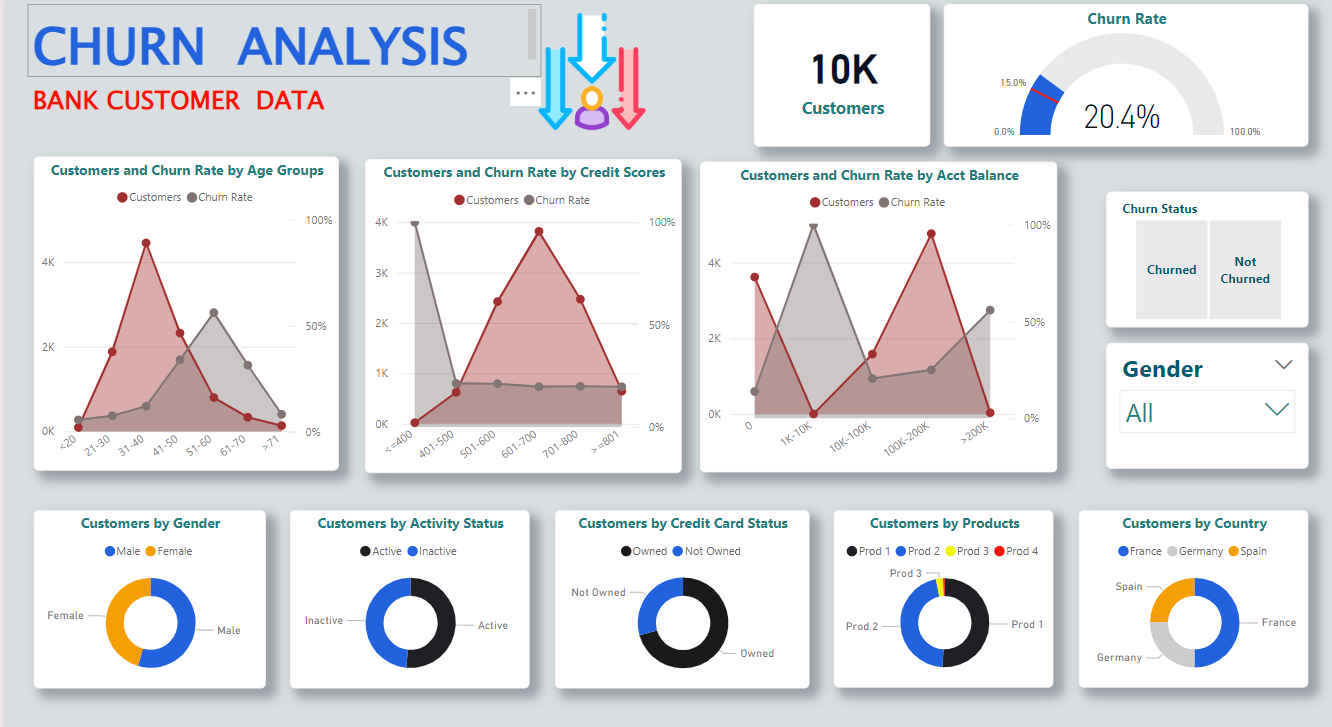

This screenshot's page, from the dashboard's own definition file:
{"tool":"powerbi","page":{"name":"Page 1","canvas":[1280,720],"ordinal":0},"visuals":[{"type":"card","fields":{"Values":["Customer Data.Customers"]},"box":[722.7,9.7,170.1,137.5],"z":0},{"type":"donutChart","fields":{"Category":["Customer Data.Gender"],"Y":["Customer Data.Customers"]},"box":[27.4,497.9,223.6,171.7],"z":1000},{"type":"donutChart","fields":{"Y":["Customer Data.Customers"],"Category":["Customer Data.Activity Status"]},"box":[275.3,497.9,230.8,171.7],"z":2000},{"type":"donutChart","fields":{"Y":["Customer Data.Customers"],"Category":["Customer Data.Credit Card Status"]},"box":[530.3,497.9,245.3,171.7],"z":3000},{"type":"donutChart","fields":{"Y":["Customer Data.Customers"],"Category":["Customer Data.Products"]},"box":[799.8,498.1,212.3,171.3],"z":4000},{"type":"areaChart","fields":{"Category":["Age Groups.Age Groups"],"Y":["Customer Data.Customers"],"Y2":["Customer Data.Churn Rate"]},"box":[27.4,157.3,294.3,303],"z":5000},{"type":"areaChart","fields":{"Category":["Credit Score Groups.Credit Scores"],"Y":["Customer Data.Customers"],"Y2":["Customer Data.Churn Rate"]},"box":[347.7,158.7,305.9,303],"z":6000},{"type":"areaChart","fields":{"Category":["Acct Balance Groups.Acct Balance"],"Y":["Customer Data.Customers"],"Y2":["Customer Data.Churn Rate"]},"box":[670.9,161.6,344.8,300.1],"z":7000},{"type":"slicer","fields":{"Values":["Customer Data.Churn Status"]},"box":[1062.9,190.6,195.4,131.5],"z":8000},{"type":"gauge","title":"Churn Rate","fields":{"Y":["Customer Data.Churn Rate"],"MinValue":["Min(Customer Data.Min Churn Rate)"],"MaxValue":["Max(Customer Data.Max Churn Rate)"],"TargetValue":["Max(Customer Data.Target Churn Rate)"]},"box":[906,9.7,352.3,137.5],"z":9000},{"type":"textbox","box":[21.7,9.7,495.8,70],"z":10000},{"type":"textbox","box":[21.6,79.4,360.7,51.9],"z":11000},{"type":"donutChart","fields":{"Y":["Customer Data.Customers"],"Category":["Customer Data.Country"]},"box":[1036.3,498.1,222,171.3],"z":13000},{"type":"slicer","fields":{"Values":["Customer Data.Gender"]},"box":[1062.9,336.6,195.4,121.9],"z":14000},{"type":"image","box":[479,0,175,150],"z":14001}]}

Visuals, with their boxes in screenshot pixels (x1, y1, x2, y2):
card - Customer Data.Customers: [left=751, top=3, right=927, bottom=145]
donutChart - Customer Data.Gender x Customer Data.Customers: [left=32, top=508, right=263, bottom=686]
donutChart - Customer Data.Customers x Customer Data.Activity Status: [left=288, top=508, right=527, bottom=686]
donutChart - Customer Data.Customers x Customer Data.Credit Card Status: [left=552, top=508, right=806, bottom=686]
donutChart - Customer Data.Customers x Customer Data.Products: [left=831, top=508, right=1050, bottom=685]
areaChart - Age Groups.Age Groups x Customer Data.Customers: [left=32, top=156, right=336, bottom=469]
areaChart - Credit Score Groups.Credit Scores x Customer Data.Customers: [left=363, top=157, right=680, bottom=471]
areaChart - Acct Balance Groups.Acct Balance x Customer Data.Customers: [left=697, top=160, right=1054, bottom=471]
slicer - Customer Data.Churn Status: [left=1103, top=190, right=1305, bottom=326]
"Churn Rate" gauge: [left=941, top=3, right=1305, bottom=145]
textbox: [left=26, top=3, right=539, bottom=76]
textbox: [left=26, top=75, right=399, bottom=129]
donutChart - Customer Data.Customers x Customer Data.Country: [left=1075, top=508, right=1305, bottom=685]
slicer - Customer Data.Gender: [left=1103, top=341, right=1305, bottom=467]
image: [left=499, top=0, right=680, bottom=148]
